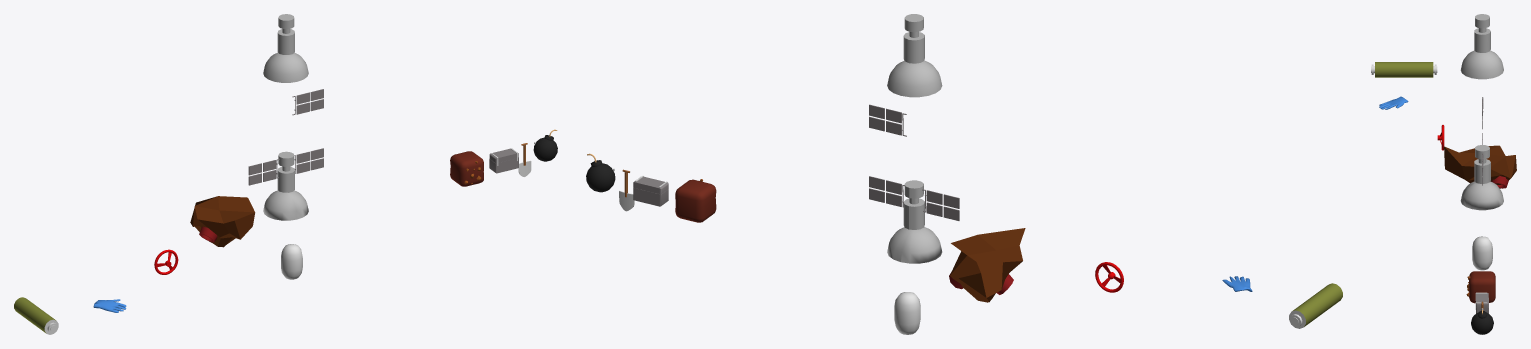
Rendered from rubbish_and_props.fbx.
3 renders of one model, left to right at view 1: azimuth 30°, elevation 25°; view 2: azimuth 150°, elevation 25°; view 3: azimuth 270°, elevation 25°, orthographic. The views are drawn at different scales.
Parts seen in each view (by area): view 1: space_rubbish.003, space_rubbish.005, space_rubbish, cube, space_rubbish.007, space_rubbish.006, box, space_rubbish.004, ищьи; view 2: space_rubbish.003, space_rubbish.005, space_rubbish, cube, space_rubbish.007, space_rubbish.006, box, space_rubbish.004, ищьи; view 3: space_rubbish.003, space_rubbish, space_rubbish.005, space_rubbish.007, cube, space_rubbish.006, ищьи, box, space_rubbish.009, space_rubbish.002, space_rubbish.008.
Boxes of the visible parts, box(x1,y1,x2,y2) form: space_rubbish.003: box(248, 148, 323, 220); space_rubbish.005: box(190, 196, 255, 247); space_rubbish: box(263, 14, 308, 82); cube: box(450, 151, 483, 186); space_rubbish.007: box(14, 297, 58, 334); space_rubbish.006: box(281, 244, 302, 279); box: box(489, 148, 518, 173); space_rubbish.004: box(292, 89, 323, 115); ищьи: box(533, 129, 557, 161); space_rubbish.003: box(869, 176, 959, 263); space_rubbish.005: box(950, 228, 1025, 302); space_rubbish: box(887, 14, 942, 97); cube: box(675, 179, 716, 222); space_rubbish.007: box(1289, 283, 1342, 328); space_rubbish.006: box(894, 292, 920, 334); box: box(633, 176, 668, 206); space_rubbish.004: box(869, 104, 906, 136); ищьи: box(586, 153, 615, 192); space_rubbish.003: box(1460, 133, 1503, 210); space_rubbish: box(1460, 14, 1503, 79); space_rubbish.005: box(1444, 145, 1516, 188); space_rubbish.007: box(1371, 62, 1437, 77); cube: box(1466, 271, 1495, 303); space_rubbish.006: box(1472, 236, 1492, 270); ищьи: box(1471, 310, 1493, 334); box: box(1475, 292, 1488, 313); space_rubbish.009: box(1379, 96, 1408, 109); space_rubbish.002: box(1491, 176, 1508, 188); space_rubbish.008: box(1437, 125, 1444, 150).
Bounding box in the file's own units: 1038 × 4442 × 1955.
